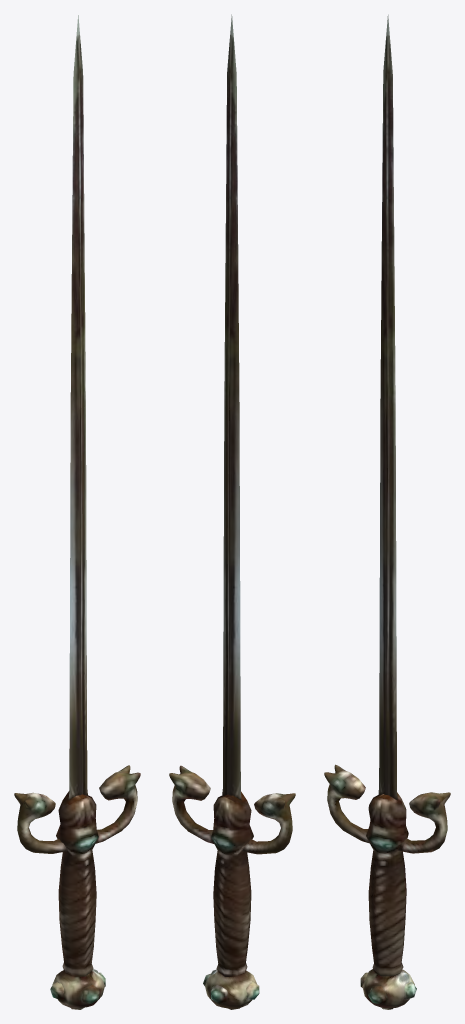
File: weapon-tucked-falcon.glb
3 renders of one model, left to right at view 1: azimuth 30°, elevation 25°; view 2: azimuth 150°, elevation 25°; view 3: azimuth 330°, elevation 25°, orthographic.
Visible parts, largest first — view 1: repierG_MDL_q; view 2: repierG_MDL_q; view 3: repierG_MDL_q.
Boxes of the visible parts, x1=… form: repierG_MDL_q: x1=14, y1=15, x2=140, y2=1009; repierG_MDL_q: x1=169, y1=14, x2=295, y2=1009; repierG_MDL_q: x1=324, y1=14, x2=450, y2=1009.
Bounding box in the file's own units: 0.2189 × 1.73 × 0.0988.
Materials: 1 (1 with a texture image).
